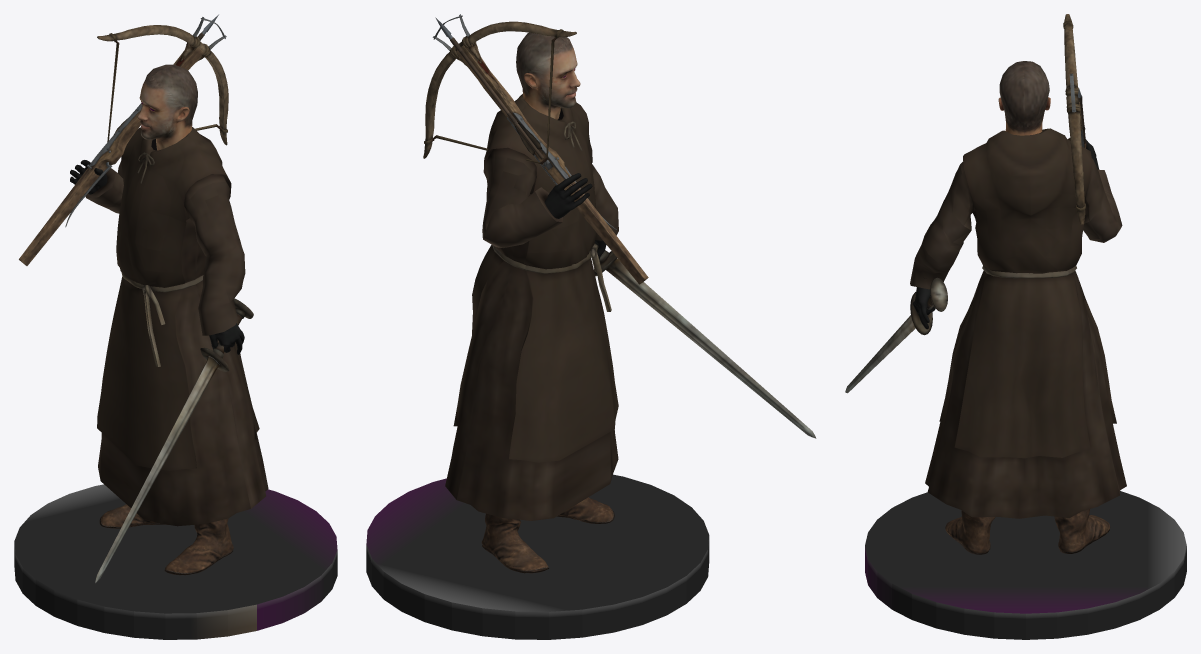
3 views of the same model, side by side, from view 1: azimuth 30°, elevation 25°; view 2: azimuth 150°, elevation 25°; view 3: azimuth 270°, elevation 25° (orthographic). The views are drawn at different scales.
Parts seen in each view (by area): view 1: studio_Sword_Sareth; view 2: studio_Sword_Sareth; view 3: studio_Sword_Sareth.
Part boxes in pixels (left/top/right/bottom): studio_Sword_Sareth: left=14, top=14, right=337, bottom=639; studio_Sword_Sareth: left=366, top=14, right=816, bottom=639; studio_Sword_Sareth: left=845, top=14, right=1186, bottom=639.
Size of the model in its own units: 1.11 by 1.82 by 1.06.
1 material, 1 textured.
